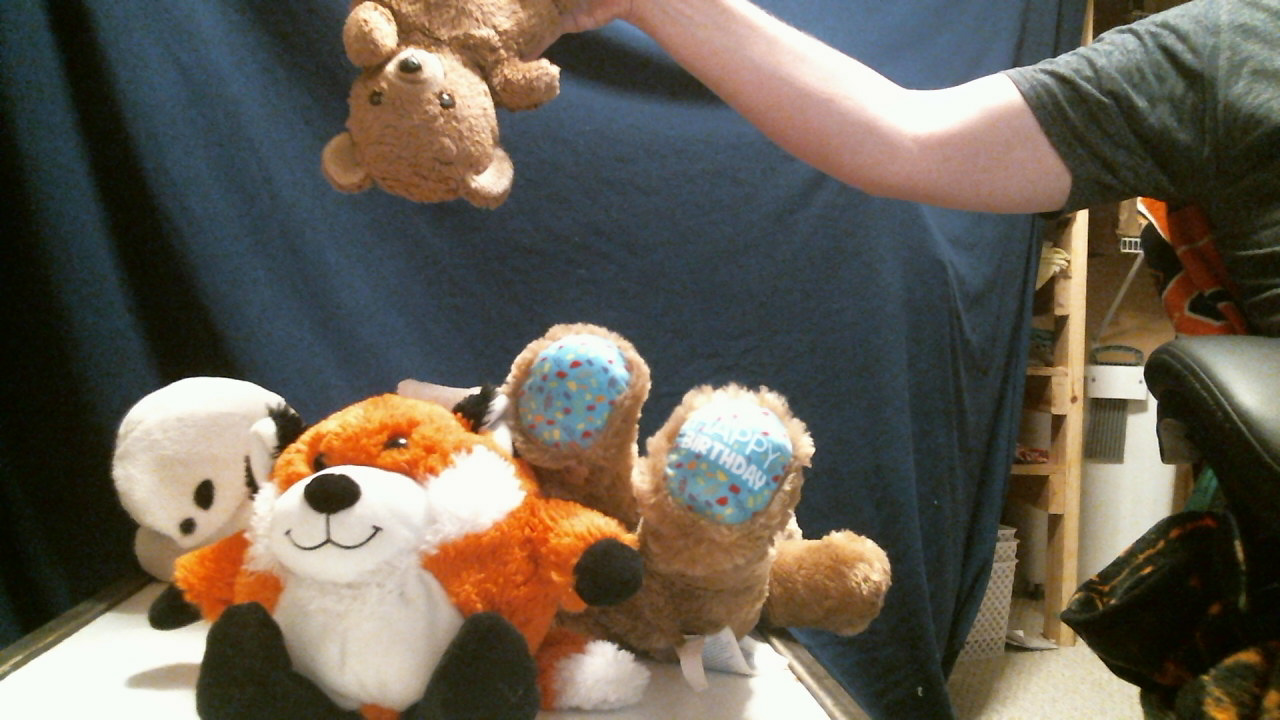Little_Mister_Bear: (368, 56, 468, 130)
